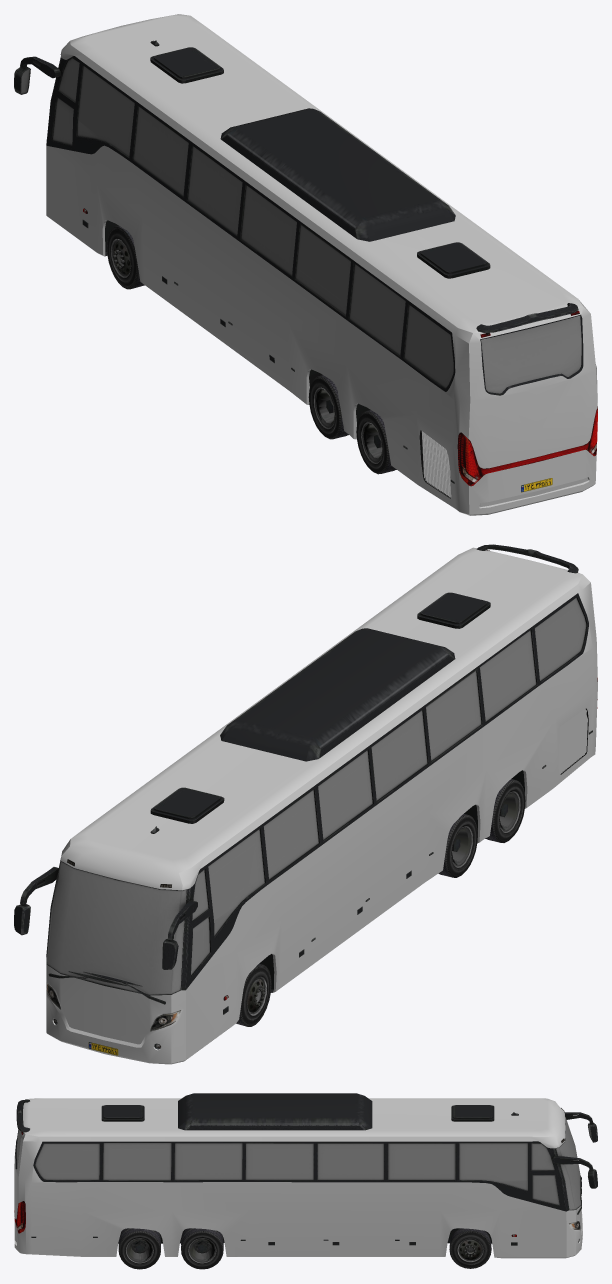
The model's file is Scania.fbx.
3 views of the same model, one above another, from view 1: azimuth 30°, elevation 25°; view 2: azimuth 150°, elevation 25°; view 3: azimuth 270°, elevation 25° (orthographic). The views are drawn at different scales.
Visible parts, largest first — view 1: Main_Body, Other_Body, Glass, Lights, FB2, FB3, FL; view 2: Main_Body, Glass, Other_Body, FB3, FB2, FL, Lights; view 3: Main_Body, Glass, Other_Body, FB2, FB3, FR, Lights.
Boxes of the visible parts, x1,y1,x2,y2 form: Main_Body: (46,14,597,515); Other_Body: (14,40,583,498); Glass: (21,58,581,393); Lights: (83,208,597,486); FB2: (308,375,348,439); FB3: (356,410,396,474); FL: (106,226,144,289); Main_Body: (46,547,597,1064); Glass: (47,598,586,994); Other_Body: (14,544,592,1014); FB3: (485,779,525,842); FB2: (438,814,477,877); FL: (236,964,271,1026); Lights: (46,550,597,1049); Main_Body: (14,1098,582,1258); Glass: (16,1117,591,1209); Other_Body: (15,1093,597,1245); FB2: (181,1228,223,1269); FB3: (118,1228,160,1269); FR: (449,1228,491,1268); Lights: (14,1108,580,1242).
Bounding box in the file's own units: 8.74 × 11.14 × 41.55.
